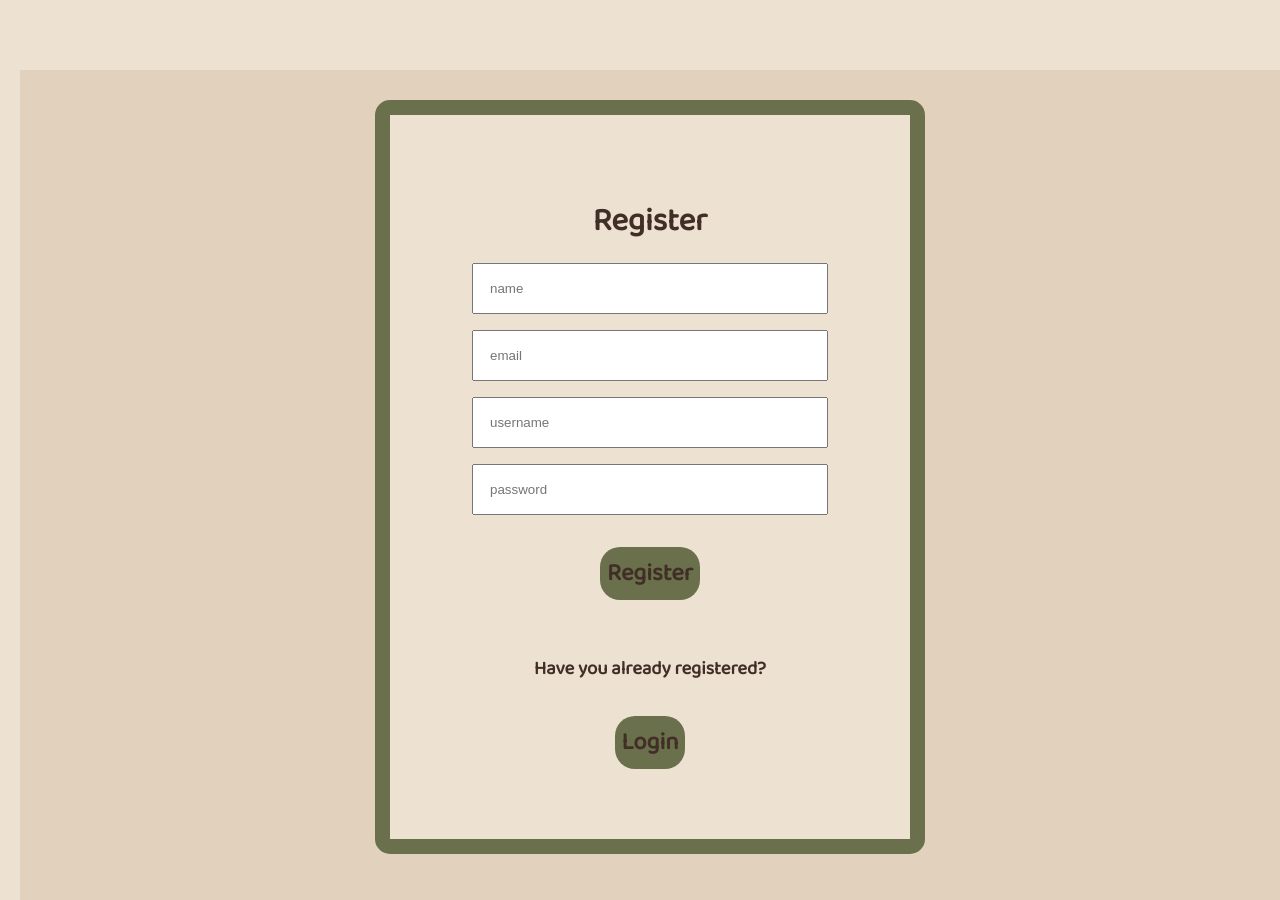
it: Register component › should display success dialog when registering succeeds
The image size is (1280, 900).
Type "testname" into the field with placeholder "name" at (650, 289), box [472, 263, 828, 314]
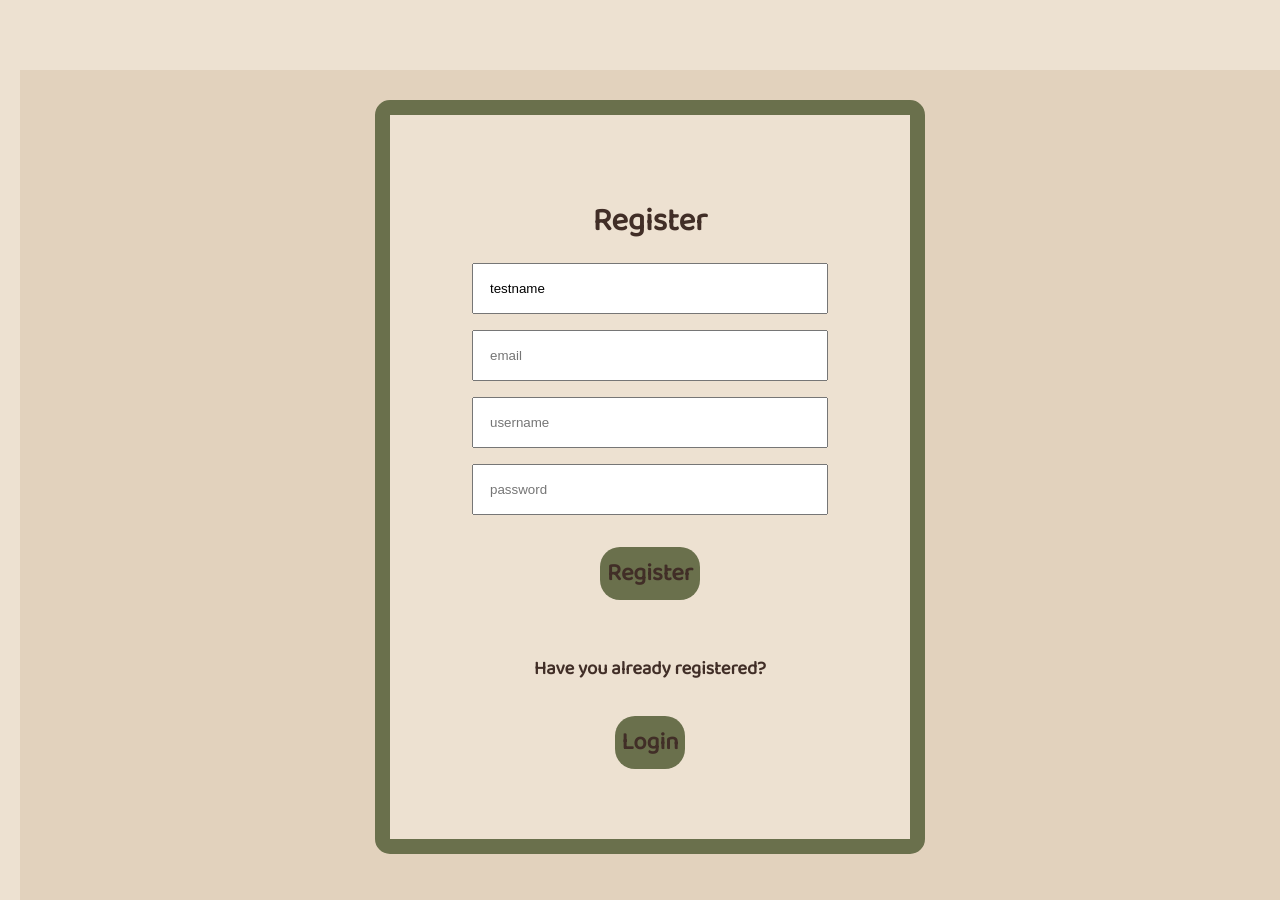
Type "testemail" into the field with placeholder "email" at (650, 356), box [472, 330, 828, 381]
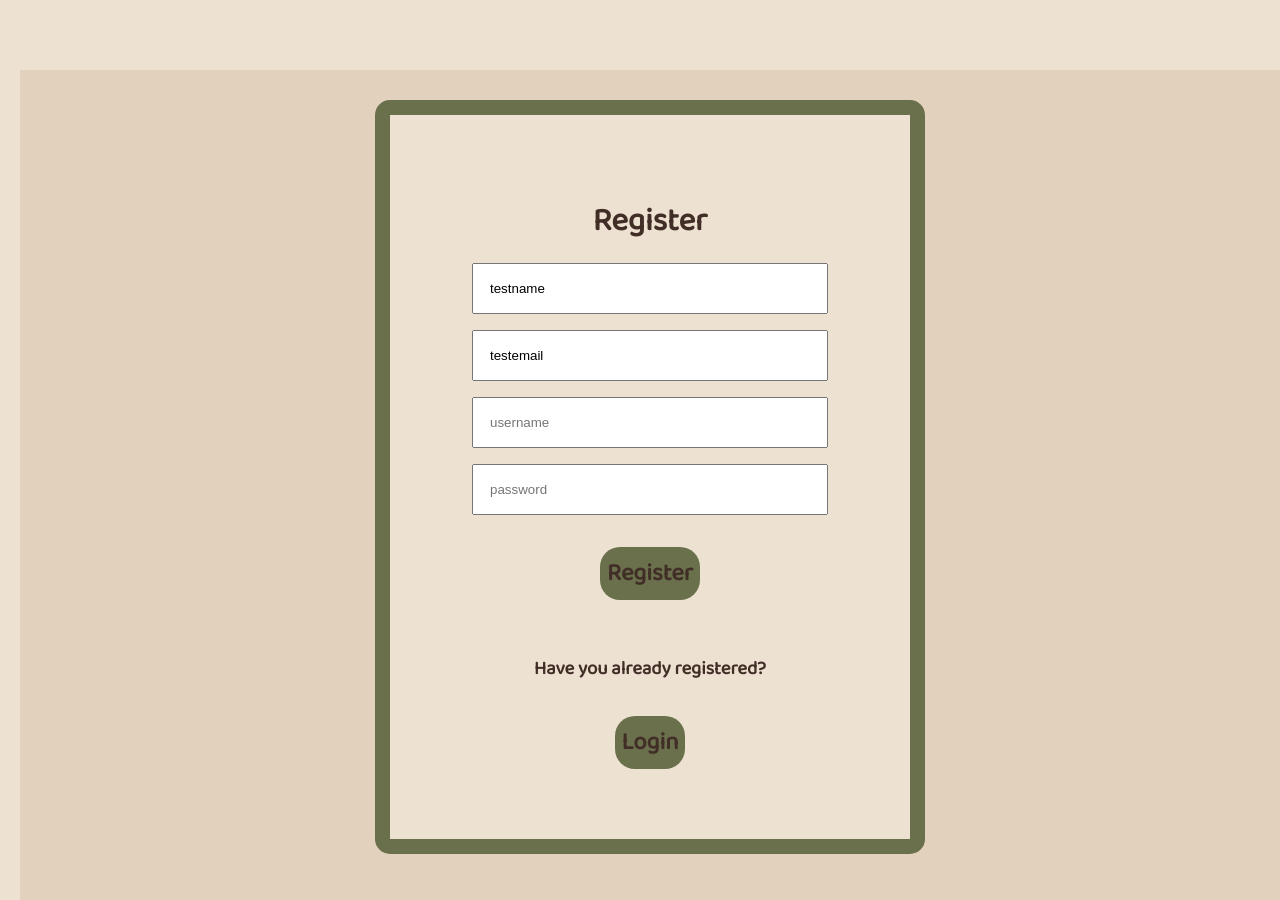
Type "testuser" into the field with placeholder "username" at (650, 423), box [472, 397, 828, 448]
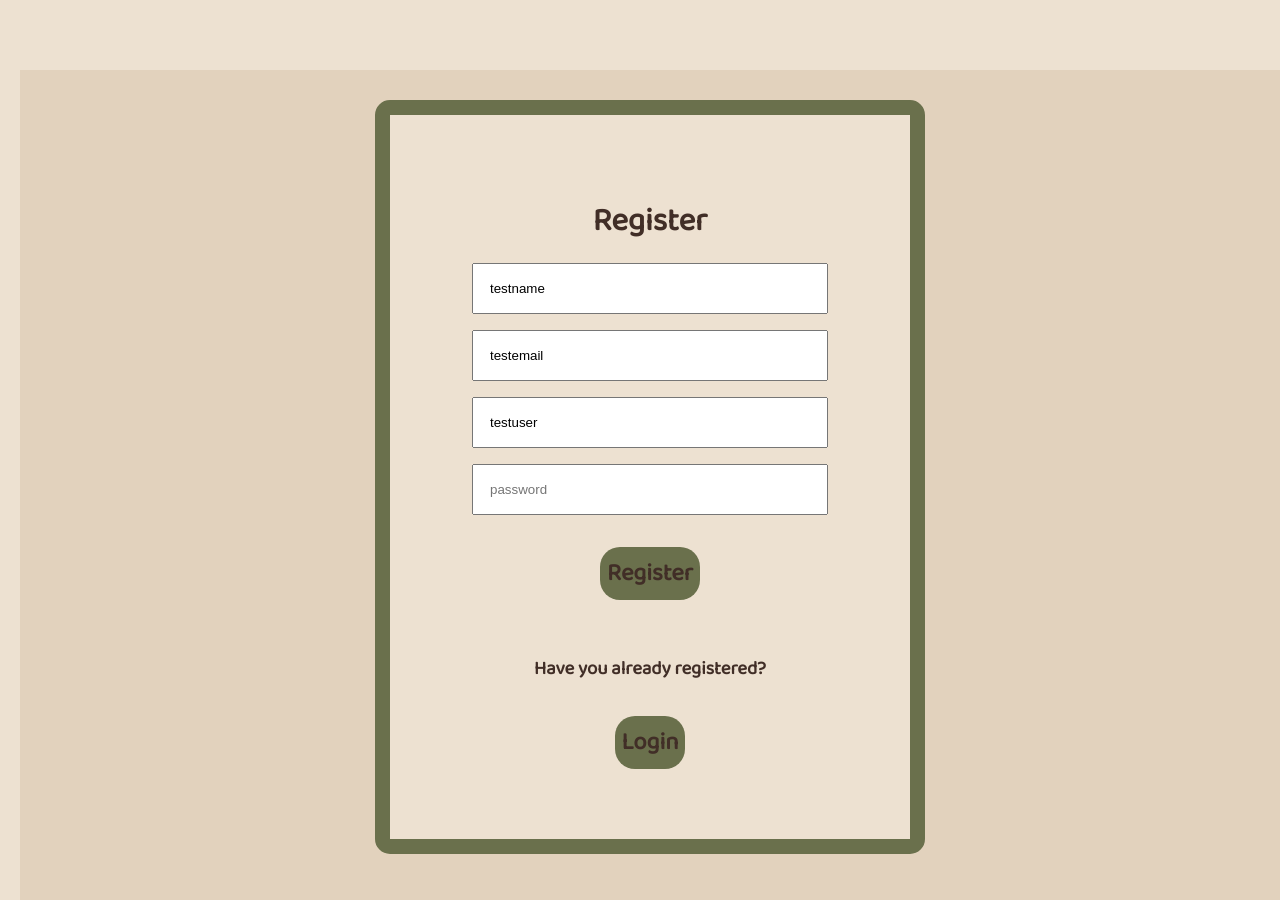
Type "testpassword" into the password field with placeholder "password" at (650, 490), box [472, 464, 828, 515]
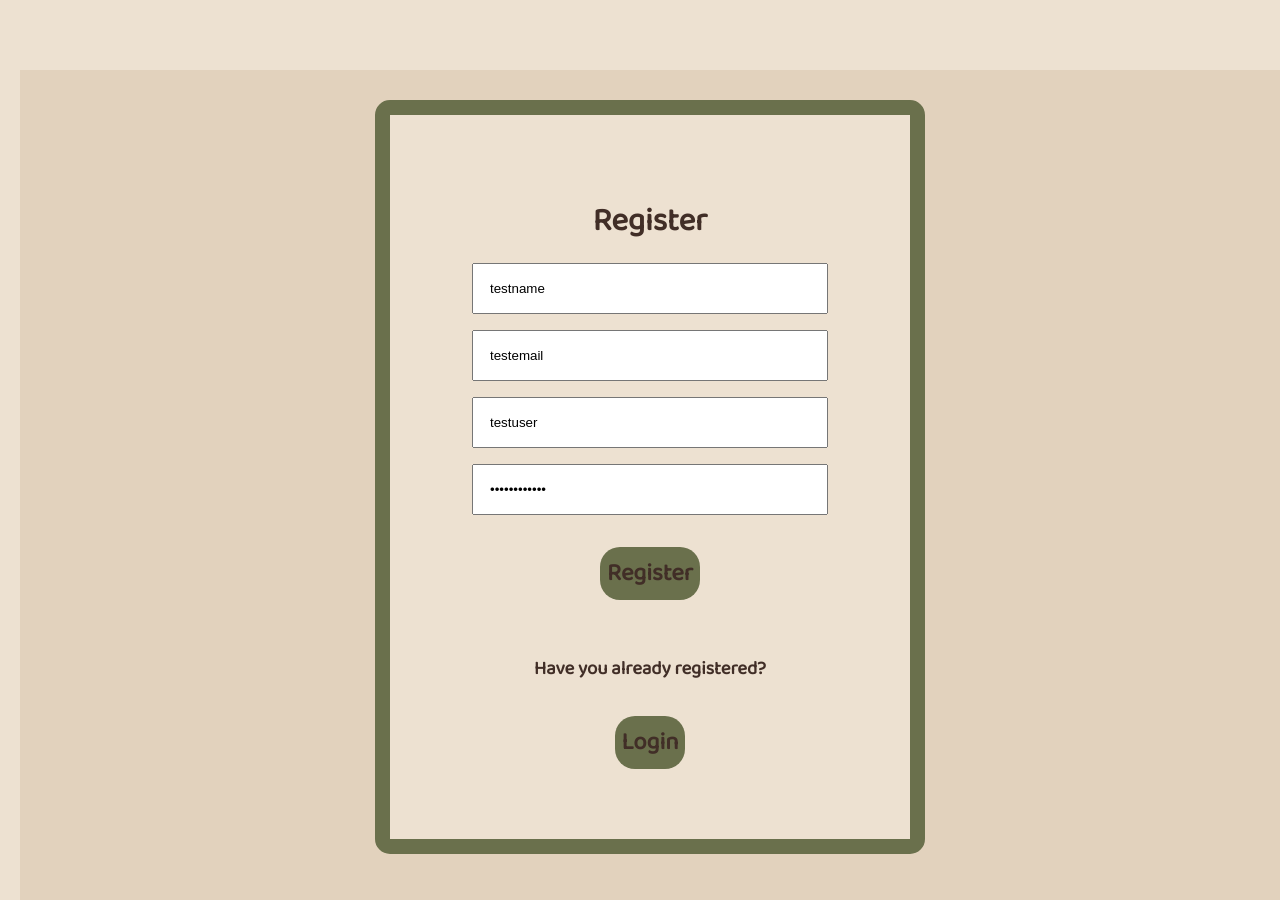
Submit the form from the button with test id "register-button", box [600, 547, 700, 600]
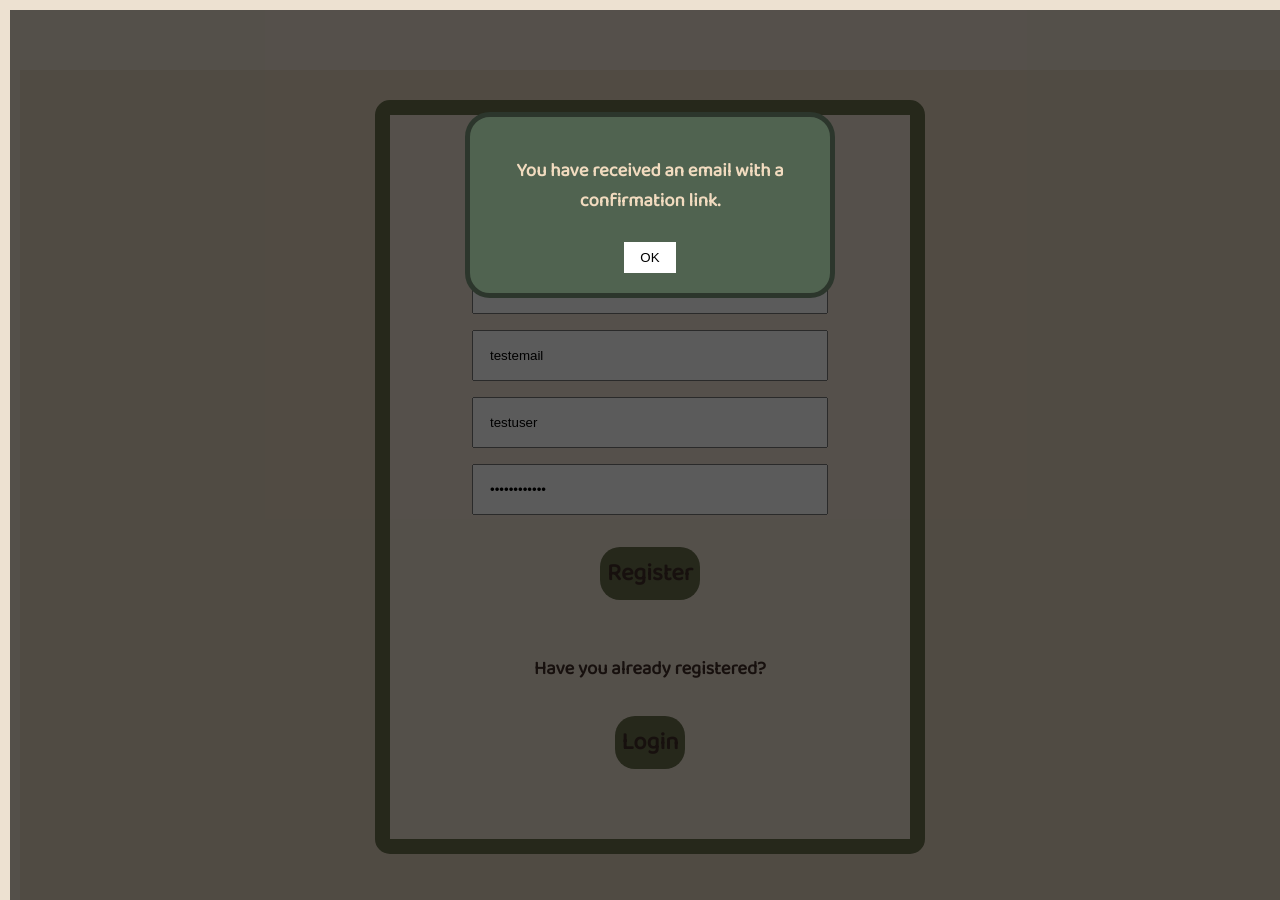
Expected: the heading "You have received an email with a confirmation link." is shown, [516, 156, 784, 216]
